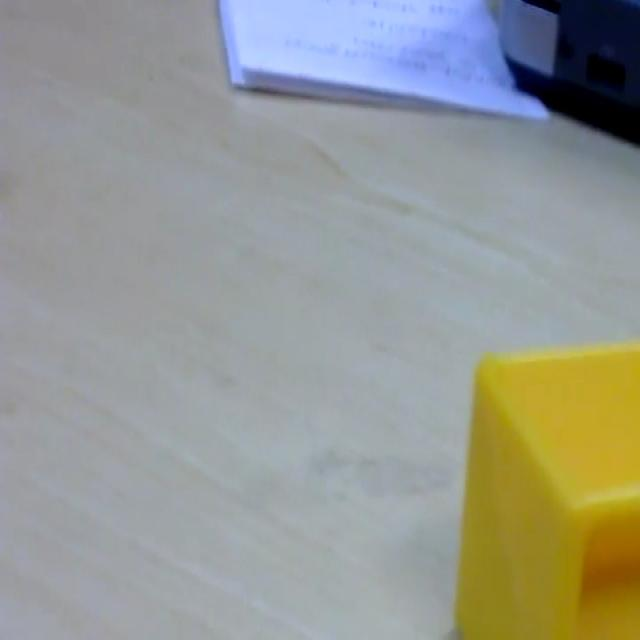yellow_block: (453, 336, 639, 636)
